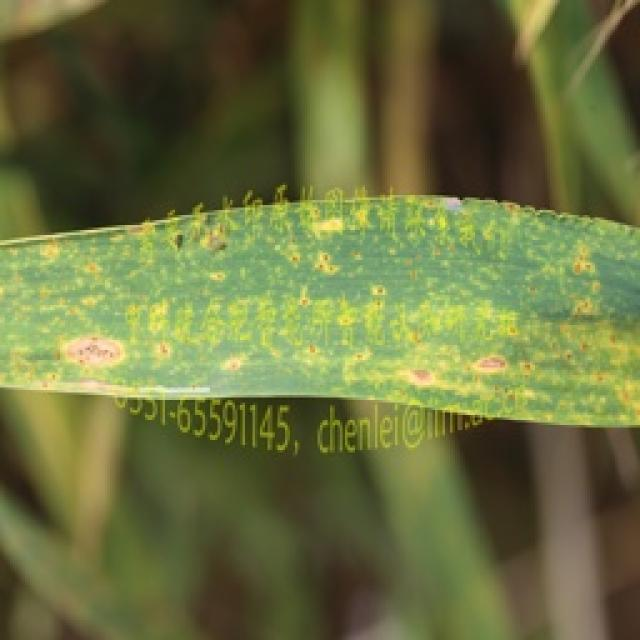Yellow Rust: (0, 180, 638, 432)
